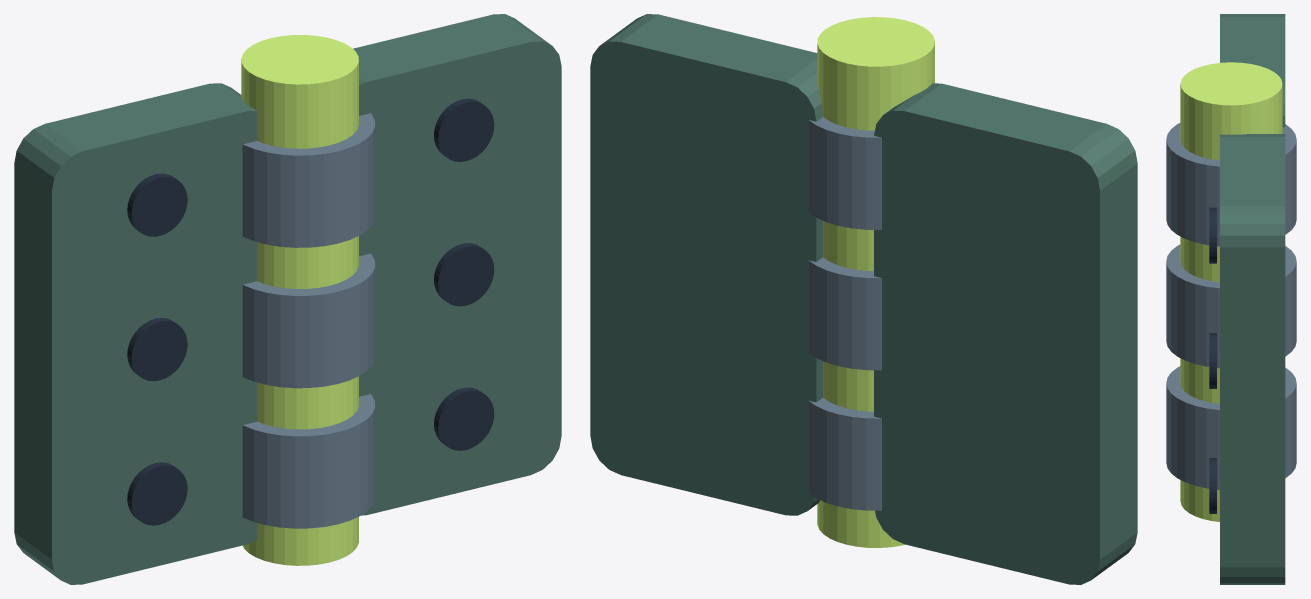
The model's file is hingeplate.glb.
3 renders of one model, left to right at view 1: azimuth 30°, elevation 25°; view 2: azimuth 150°, elevation 25°; view 3: azimuth 270°, elevation 25°, orthographic. The views are drawn at different scales.
Visible parts, largest first — view 1: leaf-1, leaf1, pin, fixing hole (×6), knuckle0.24, knuckle0.94, knuckle0.59; view 2: leaf-1, leaf1, pin, knuckle0.24, knuckle0.59, knuckle0.94; view 3: leaf1, pin, knuckle0.24, knuckle0.59, knuckle0.94, leaf-1, fixing hole (×3).
Part boxes in pixels (x1,y1,x2,y2): leaf-1: [14, 83, 257, 584]; leaf1: [353, 14, 561, 515]; pin: [241, 35, 358, 565]; fixing hole (×6): [127, 98, 494, 525]; knuckle0.24: [242, 394, 375, 528]; knuckle0.94: [242, 113, 375, 247]; knuckle0.59: [242, 253, 375, 388]; leaf-1: [874, 83, 1137, 584]; leaf1: [590, 14, 822, 515]; pin: [817, 17, 934, 547]; knuckle0.24: [808, 398, 881, 510]; knuckle0.59: [808, 257, 881, 370]; knuckle0.94: [808, 117, 881, 229]; leaf1: [1220, 134, 1285, 584]; pin: [1180, 62, 1282, 521]; knuckle0.24: [1166, 366, 1296, 489]; knuckle0.59: [1166, 244, 1296, 368]; knuckle0.94: [1166, 123, 1296, 246]; leaf-1: [1220, 14, 1285, 127]; fixing hole (×3): [1209, 207, 1216, 513].
Bounding box in the file's own units: 1.33 × 1.2 × 0.34.
